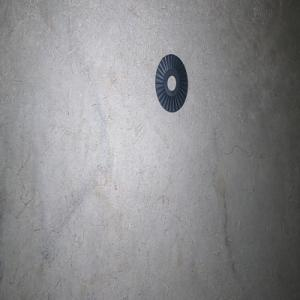Washer: (155, 54, 187, 112)
